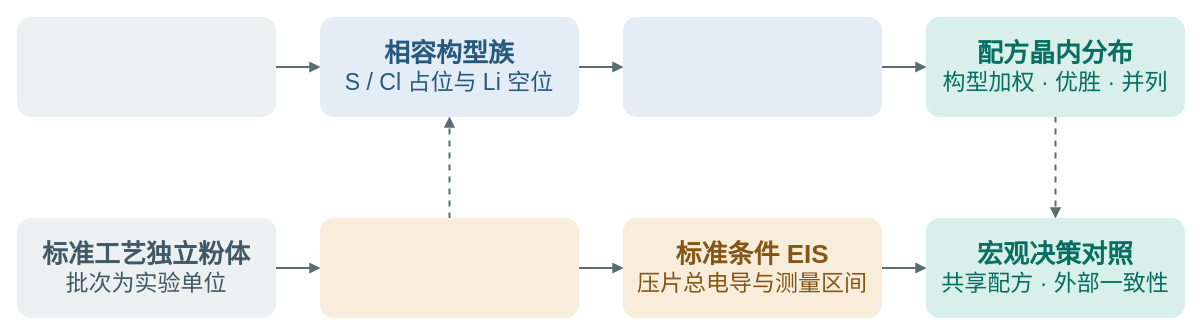
This 1202x335 diagram has some shape labels left out. The box of each missing label's shape, as (x1, y1, x2, y2) in pixels:
七种名义组成 Li / P / S / Cl 整数计量: (16, 16, 276, 116)
结构与样品条件 相、成分、密度、接触: (320, 218, 578, 318)
统一 DPA4 与轨迹 每族独立采样集体输运: (622, 16, 882, 116)
